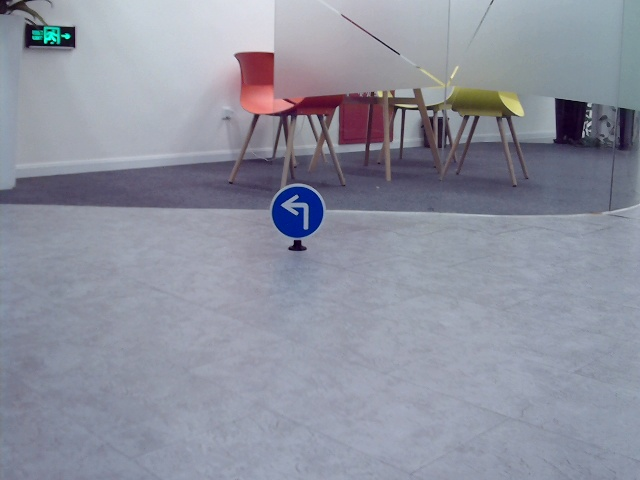turn_left: (281, 193, 313, 232)
